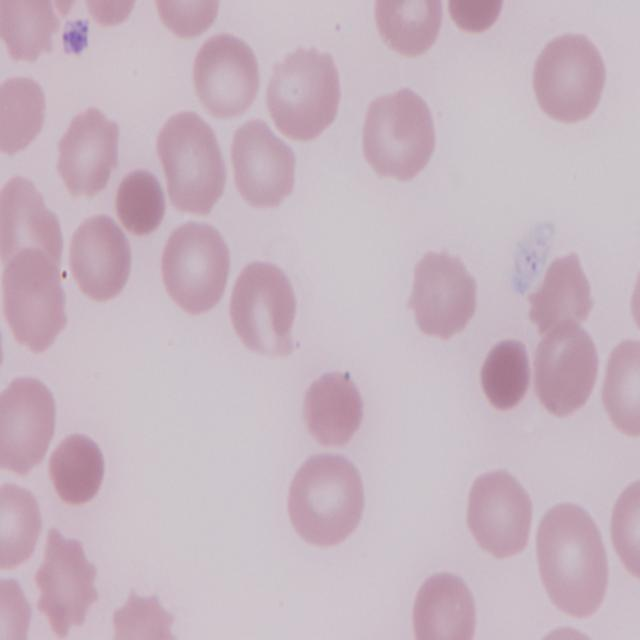RBC: (533, 498, 615, 622), (284, 448, 369, 555), (264, 40, 344, 143), (358, 85, 440, 184), (156, 106, 228, 216), (226, 255, 300, 361), (532, 31, 611, 128), (158, 218, 230, 322), (52, 102, 122, 205), (407, 246, 482, 340), (192, 33, 266, 126), (466, 464, 538, 558), (0, 370, 61, 480), (228, 117, 299, 210), (2, 255, 66, 358), (532, 325, 602, 418), (68, 212, 136, 304), (528, 250, 594, 337), (300, 367, 367, 450), (369, 0, 449, 65), (407, 569, 480, 640), (0, 66, 47, 165), (0, 475, 44, 574), (601, 333, 640, 440), (1, 0, 62, 68), (609, 470, 640, 590), (146, 0, 226, 40), (446, 0, 514, 36)
Spherocyte: (48, 430, 109, 510), (480, 334, 538, 412), (112, 168, 163, 237)
